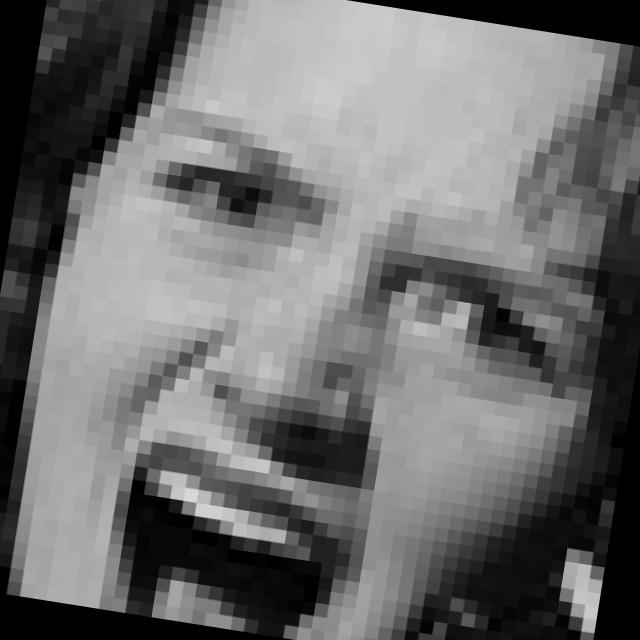angry: (60, 105, 597, 640)
